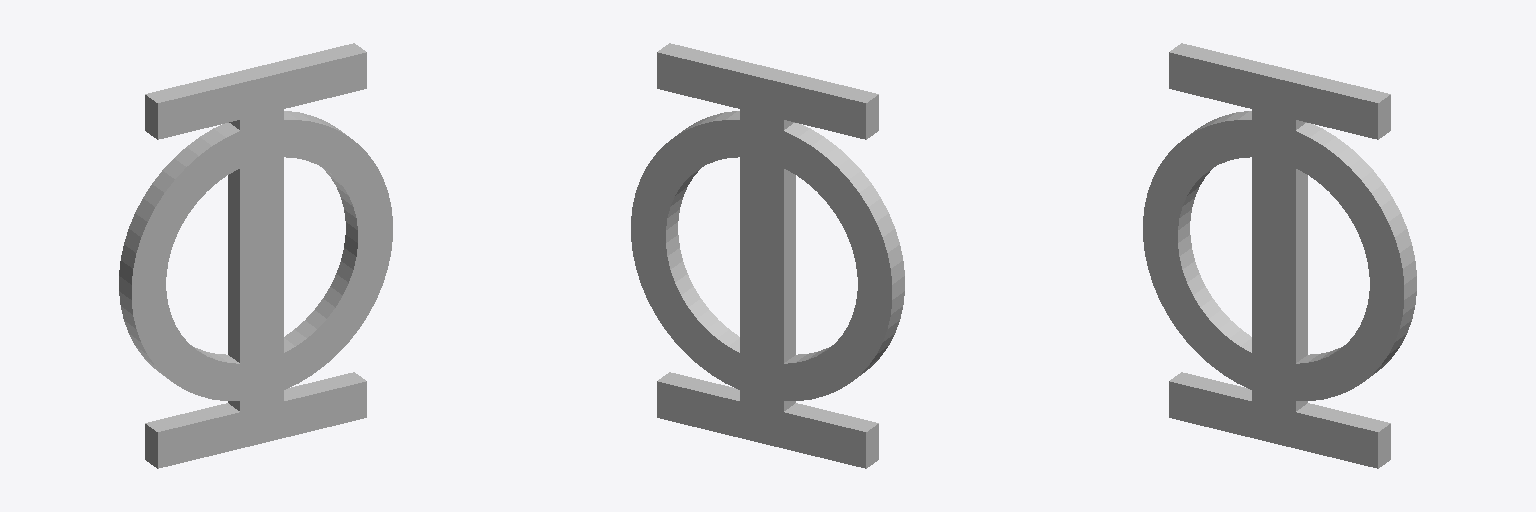
Rendered from PHI.obj.
The picture shows the model from 3 angles: view 1: azimuth 30°, elevation 25°; view 2: azimuth 150°, elevation 25°; view 3: azimuth 330°, elevation 25°; orthographic projection.
Visible parts, largest first — view 1: Object.1; view 2: Object.1; view 3: Object.1.
Boxes of the visible parts, box(x1,y1,x2,y2) form: Object.1: box(119, 43, 392, 468); Object.1: box(631, 43, 904, 468); Object.1: box(1143, 43, 1416, 468).
Size of the model in its own units: 38.04 by 50.8 by 3.17.